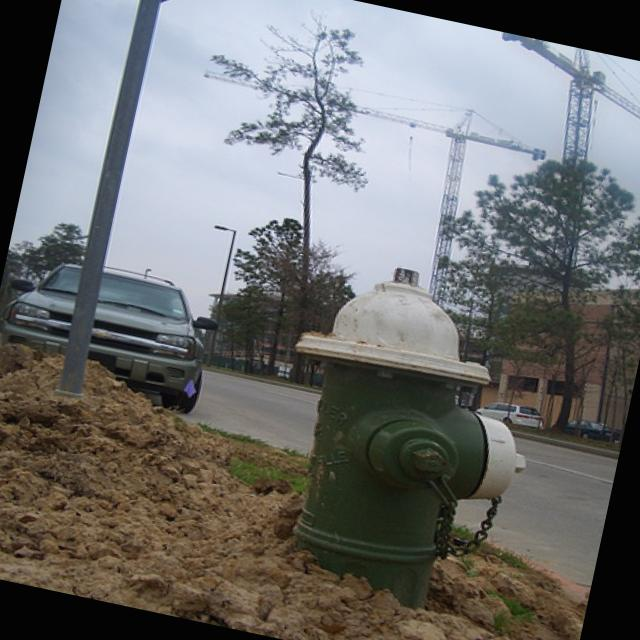Vehicle: (0, 245, 226, 416), (474, 396, 546, 429), (562, 417, 612, 442)
